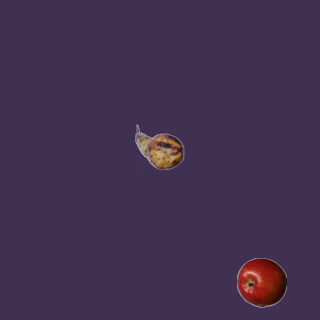Apple Braeburn: (236, 257, 286, 307)
Pear Abate: (134, 122, 184, 172)
